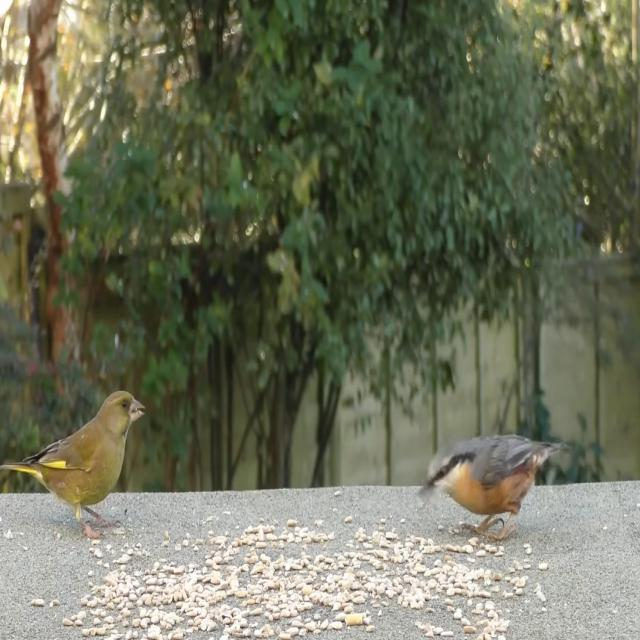beak: (130, 396, 146, 422), (419, 476, 434, 496)
bird: (4, 384, 146, 536), (418, 434, 568, 551)
